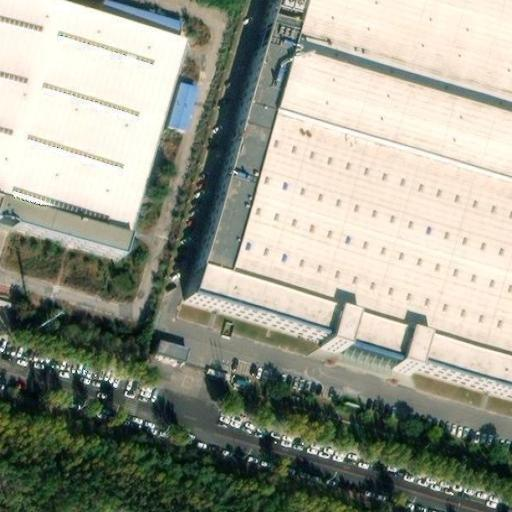building: (185, 0, 512, 401), (91, 0, 183, 35), (164, 78, 197, 131), (152, 333, 191, 361)
